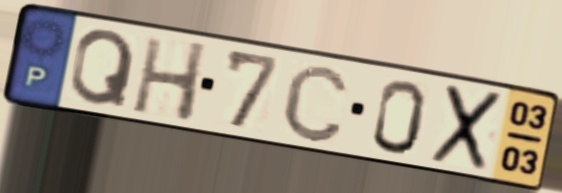0: (369, 77, 432, 156)
7: (223, 46, 284, 132)
C: (278, 61, 353, 146)
H: (128, 34, 212, 126)
Q: (67, 27, 139, 111)
X: (426, 81, 507, 174)
